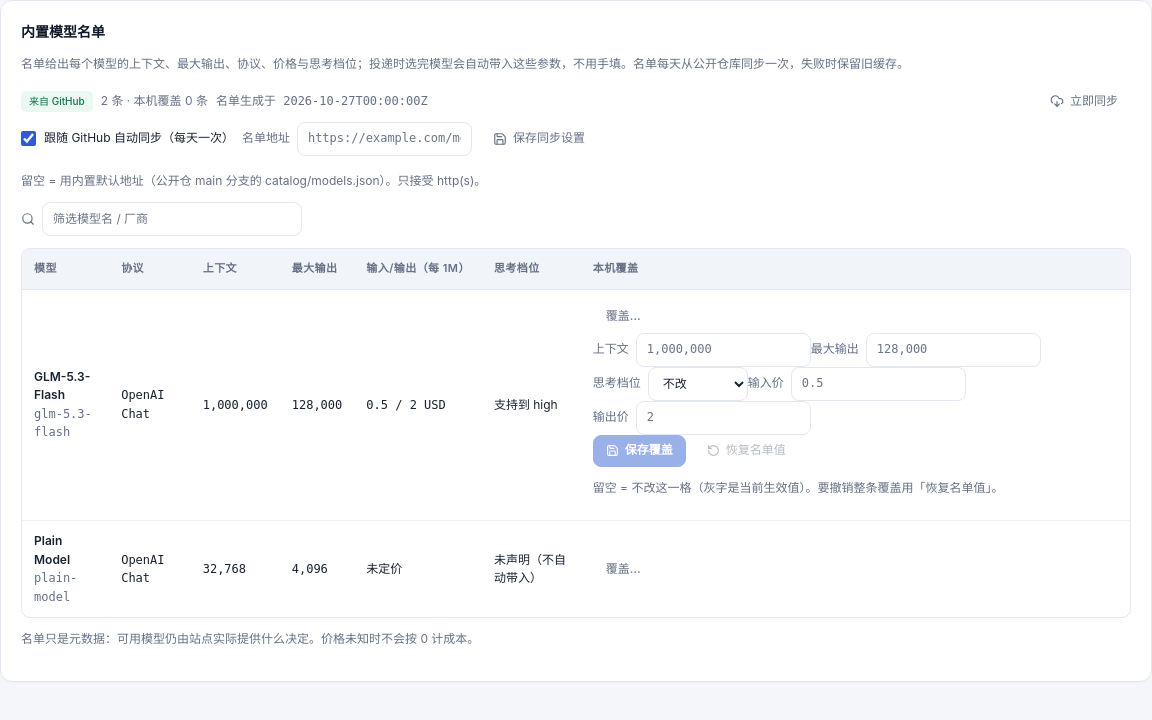
Scenario: 模型名单卡（M47-S2） › ④c 一格都没填时保存按钮不可用（避免提交一条空覆盖）
The image size is (1152, 720).
Expected: the text "GLM-5.3-Flash" is shown, [34,368,97,405]
Expected: the button "保存覆盖" is disabled, [593,434,686,466]
In the field labelled "上下文": point(723, 350) [636,332,811,366], type "200000"
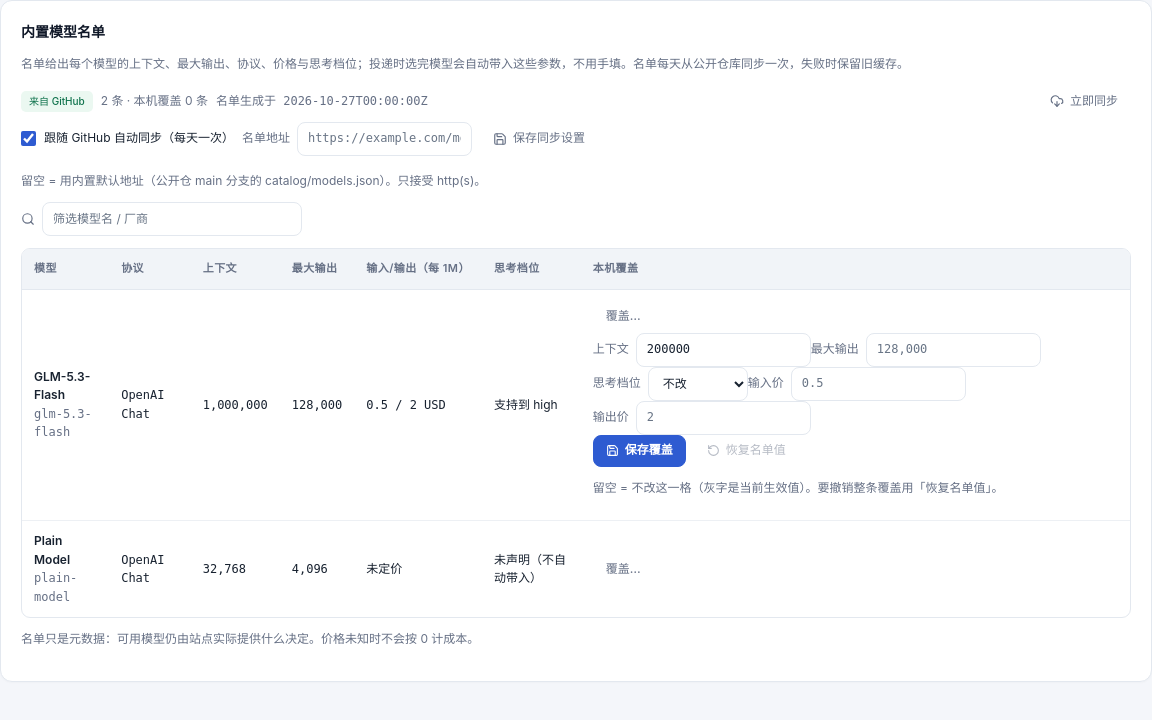
Expected: the button "保存覆盖" is enabled, [593,434,686,466]
